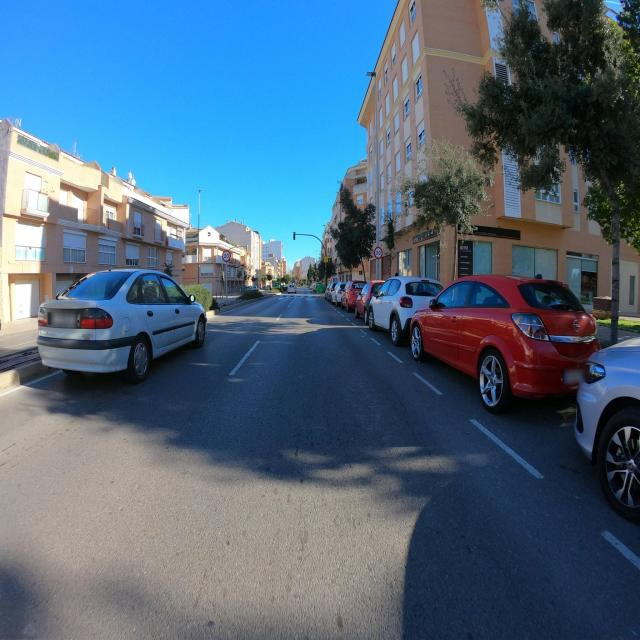car: (409, 273, 600, 414), (36, 266, 207, 384), (573, 287, 640, 526), (367, 276, 444, 346), (354, 279, 384, 321), (341, 279, 367, 312), (331, 282, 347, 306), (326, 282, 336, 300)
